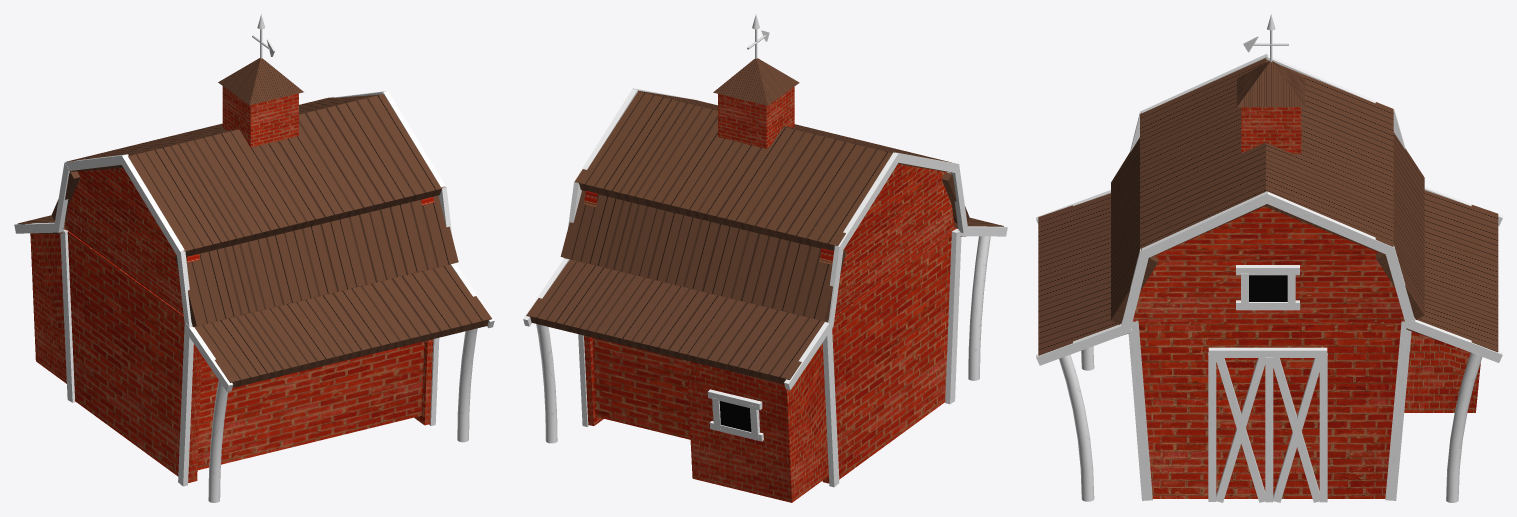
The model's file is 新倉庫(改).FBX.
3 renders of one model, left to right at view 1: azimuth 30°, elevation 25°; view 2: azimuth 150°, elevation 25°; view 3: azimuth 270°, elevation 25°, orthographic. The views are drawn at different scales.
Visible parts, largest first — view 1: Box006, Box001, Box008, Box011, Box005, Line001, Box031 (×2), Box037, Pyramid001, Box007, Box032, Cylinder004 (+9 smaller); view 2: Box007, Box001, Box010, Box009, Box031, Line001, Box004, Box037, Pyramid001, Box032, Cylinder004, Box033 (+11 smaller); view 3: Box002, Line002, Box006, Box007, Box010, Box011, Box009, Box008, Box031, Pyramid001, Box037, Box012 (+19 smaller).
Part boxes in pixels (x1,y1,x2,y2): Box006: (128, 94, 445, 256); Box001: (65, 229, 202, 482); Box008: (175, 195, 458, 326); Box011: (194, 264, 491, 387); Box005: (197, 341, 424, 470); Line001: (65, 168, 199, 314); Box031 (×2): (30, 233, 233, 391); Box037: (222, 86, 298, 147); Pyramid001: (218, 58, 303, 105); Box007: (66, 94, 379, 171); Box032: (178, 325, 193, 486); Cylinder004: (208, 380, 228, 502); Box007: (574, 91, 898, 251); Box001: (822, 228, 956, 483); Box010: (526, 259, 824, 384); Box009: (560, 190, 846, 322); Box031: (686, 343, 828, 502); Line001: (819, 164, 954, 315); Box004: (592, 338, 690, 439); Box037: (718, 87, 794, 148); Pyramid001: (713, 58, 799, 105); Box032: (945, 228, 961, 404); Cylinder004: (968, 236, 990, 380); Box033: (822, 328, 839, 487); Box002: (1138, 322, 1401, 498); Line002: (1132, 206, 1404, 321); Box006: (1140, 58, 1265, 257); Box007: (1263, 59, 1393, 254); Box010: (1406, 190, 1498, 352); Box011: (1038, 193, 1129, 355); Box009: (1376, 132, 1424, 319); Box008: (1111, 137, 1158, 324); Box031: (1404, 331, 1480, 412); Pyramid001: (1237, 61, 1305, 107); Box037: (1241, 107, 1301, 153); Box012: (1128, 321, 1152, 500).
Bounding box in the file's own units: 82.59 × 117 × 116.
6 materials, 5 textured.
